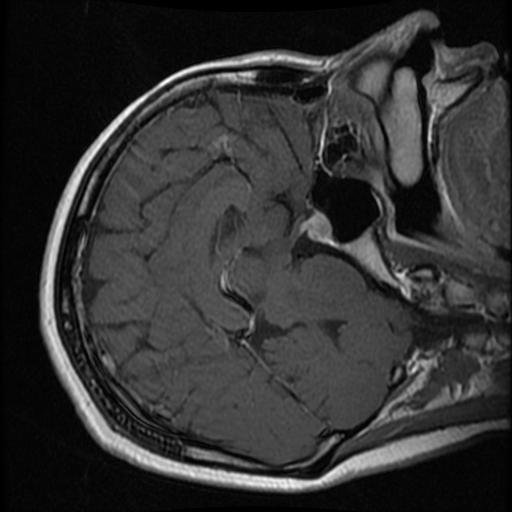pituitary tumour: (300, 211, 332, 243)
